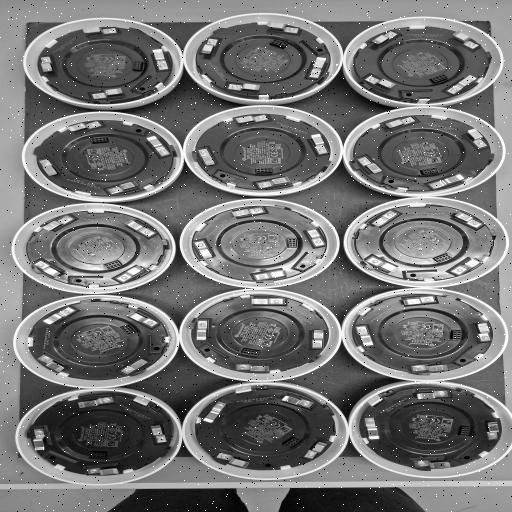konnektor: (427, 73, 449, 85), (240, 346, 264, 356), (416, 167, 440, 177), (266, 39, 290, 49), (102, 258, 121, 270), (457, 424, 473, 438), (448, 328, 464, 342), (86, 450, 108, 460), (118, 324, 136, 336), (281, 437, 301, 447), (434, 253, 452, 262), (131, 60, 144, 72), (285, 237, 299, 248), (88, 136, 110, 143), (254, 168, 274, 174)
yaysiz: (83, 84, 132, 100), (40, 307, 78, 327), (259, 20, 303, 36), (121, 218, 156, 238), (448, 29, 481, 50), (448, 209, 484, 228), (366, 256, 404, 274), (34, 260, 68, 280), (148, 46, 174, 72), (447, 74, 479, 95), (198, 402, 226, 426), (367, 29, 402, 47), (39, 215, 74, 233), (37, 354, 68, 374), (429, 173, 467, 189), (453, 256, 485, 275), (216, 452, 254, 468), (309, 54, 331, 81), (358, 156, 386, 177), (306, 131, 330, 155), (117, 264, 149, 282), (198, 36, 224, 58), (462, 126, 488, 148), (304, 438, 330, 460), (125, 310, 158, 327), (226, 207, 266, 221), (146, 421, 170, 444), (369, 210, 398, 229), (34, 428, 56, 453), (364, 76, 398, 92), (224, 81, 265, 94), (194, 240, 218, 262), (302, 225, 326, 247), (121, 356, 150, 374), (73, 397, 113, 410), (231, 114, 270, 127), (356, 325, 378, 348), (381, 116, 417, 130), (278, 394, 314, 408), (80, 26, 121, 38), (257, 176, 298, 188), (413, 456, 454, 468), (471, 320, 492, 343), (396, 296, 436, 308), (255, 268, 294, 280), (39, 56, 60, 78), (65, 121, 103, 133), (87, 464, 125, 476), (412, 390, 450, 402), (39, 159, 61, 179), (364, 417, 381, 442), (199, 148, 219, 169), (196, 320, 213, 343), (412, 362, 451, 372), (482, 419, 500, 440), (236, 362, 273, 372), (243, 298, 285, 306), (310, 326, 322, 349)
